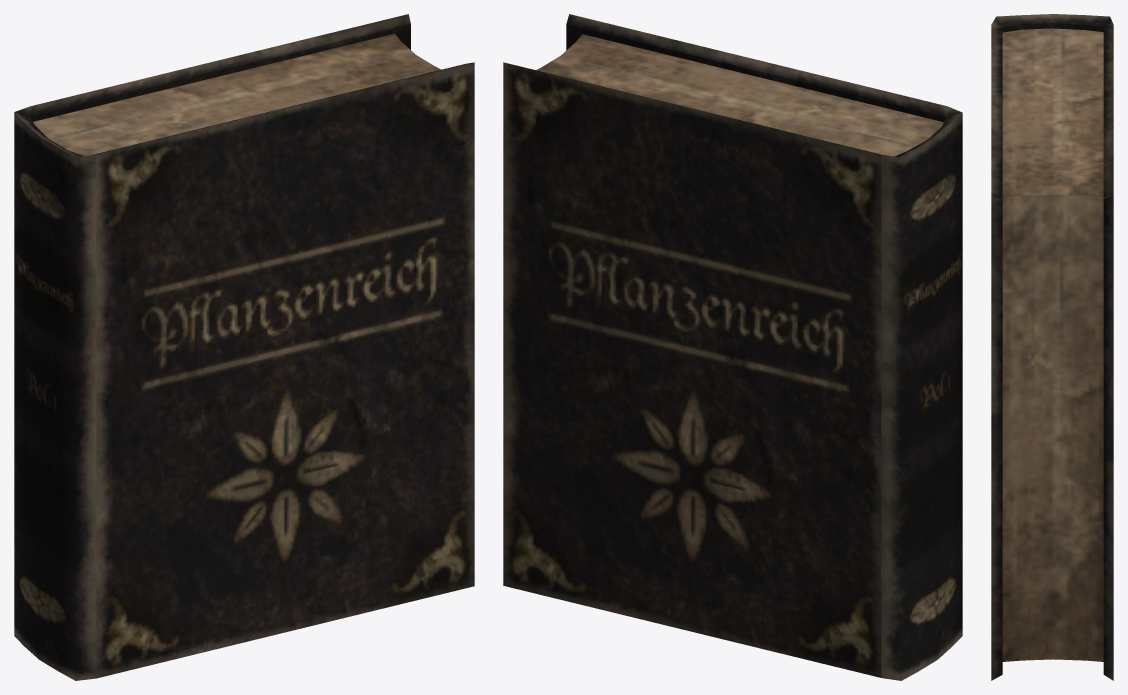
File: book02.dae
3 views of the same model, side by side, from view 1: azimuth 30°, elevation 25°; view 2: azimuth 150°, elevation 25°; view 3: azimuth 270°, elevation 25° (orthographic). The views are drawn at different scales.
Parts seen in each view (by area): view 1: pCube1; view 2: pCube1; view 3: pCube1.
Boxes of the visible parts, <box> form: pCube1: <box>14,14,474,680</box>; pCube1: <box>503,14,962,680</box>; pCube1: <box>991,14,1113,680</box>.
Bounding box in the file's own units: 0.2811 × 0.35 × 0.08.
